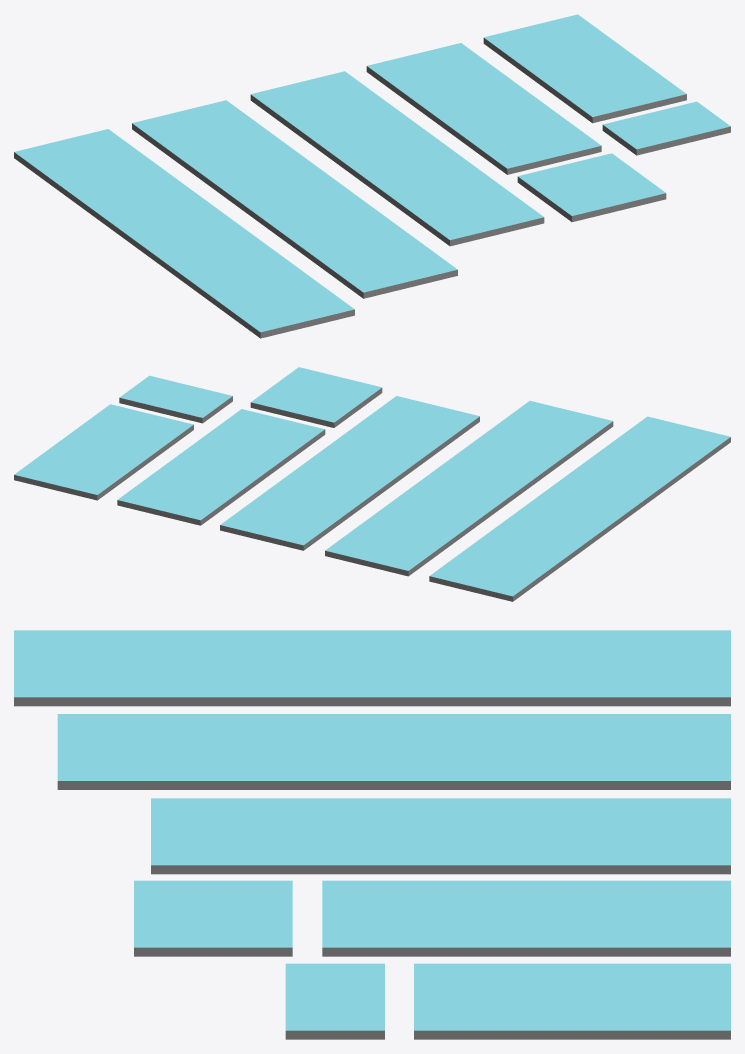
File: FBX_Street.fbx
The picture shows the model from 3 angles, top to bottom: view 1: azimuth 30°, elevation 25°; view 2: azimuth 150°, elevation 25°; view 3: azimuth 270°, elevation 25°; orthographic projection. The views are drawn at different scales.
Visible parts, largest first — view 1: Street_1, Street_2, Street_3, Street_4, Street_5, Street_6, Street_7; view 2: Street_1, Street_2, Street_3, Street_4, Street_5, Street_6, Street_7; view 3: Street_1, Street_2, Street_3, Street_4, Street_5, Street_6, Street_7.
Boxes of the visible parts, box(x1,y1,x2,y2) form: Street_1: box(14, 129, 354, 338); Street_2: box(132, 100, 457, 298); Street_3: box(250, 71, 544, 246); Street_4: box(366, 43, 601, 174); Street_5: box(483, 14, 686, 123); Street_6: box(517, 153, 666, 222); Street_7: box(602, 101, 730, 155); Street_1: box(429, 416, 730, 601); Street_2: box(325, 401, 613, 576); Street_3: box(220, 396, 479, 550); Street_4: box(117, 409, 325, 525); Street_5: box(14, 404, 193, 500); Street_6: box(250, 367, 382, 427); Street_7: box(119, 375, 232, 423); Street_1: box(14, 630, 730, 706); Street_2: box(57, 714, 730, 789); Street_3: box(151, 798, 730, 874); Street_4: box(322, 880, 730, 956); Street_5: box(414, 963, 730, 1039); Street_6: box(134, 880, 292, 956); Street_7: box(285, 963, 384, 1039).
Bounding box in the file's own units: 47.8 × 0.5 × 36.2.
